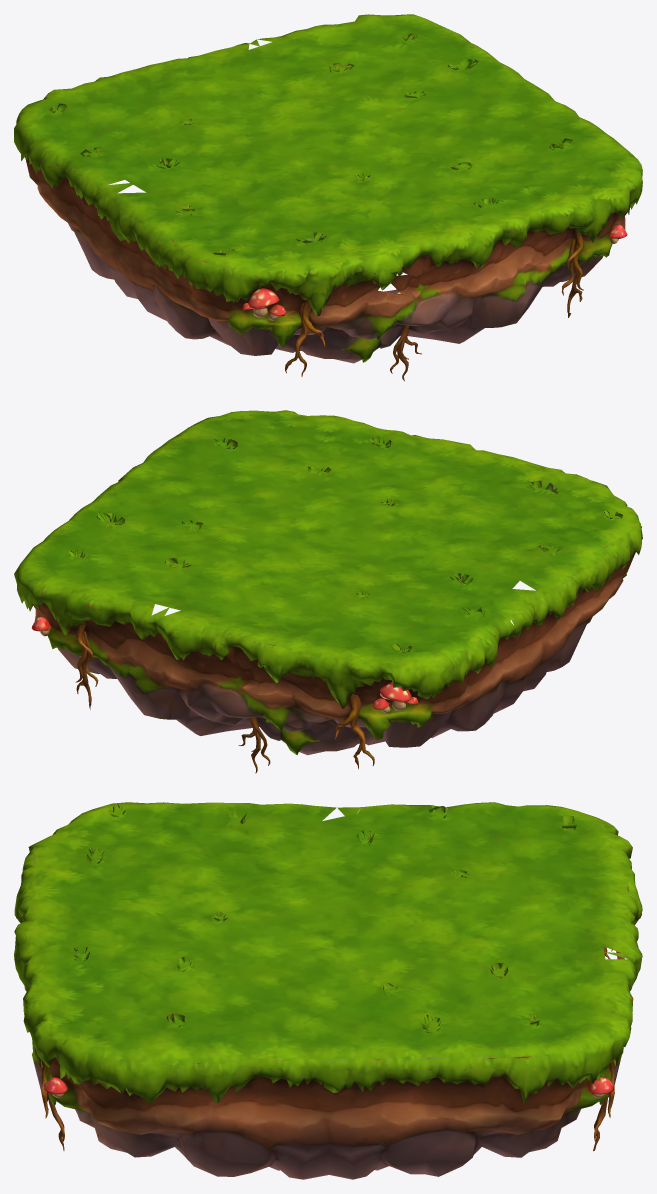
The model's file is forest_island.glb.
3 renders of one model, top to bottom at view 1: azimuth 30°, elevation 25°; view 2: azimuth 150°, elevation 25°; view 3: azimuth 270°, elevation 25°, orthographic. The views are drawn at different scales.
Size of what is drawn, in the model's own units: 2.84 by 1 by 2.84.
1 material, 1 textured.
